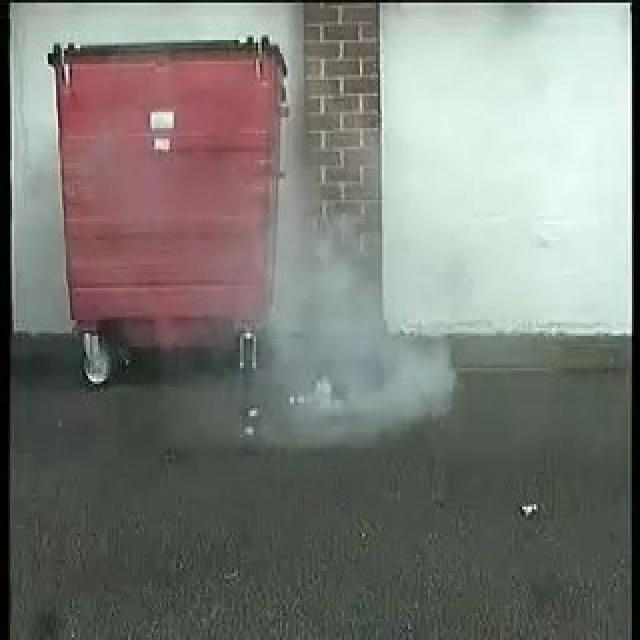smoke: (270, 229, 457, 437)
